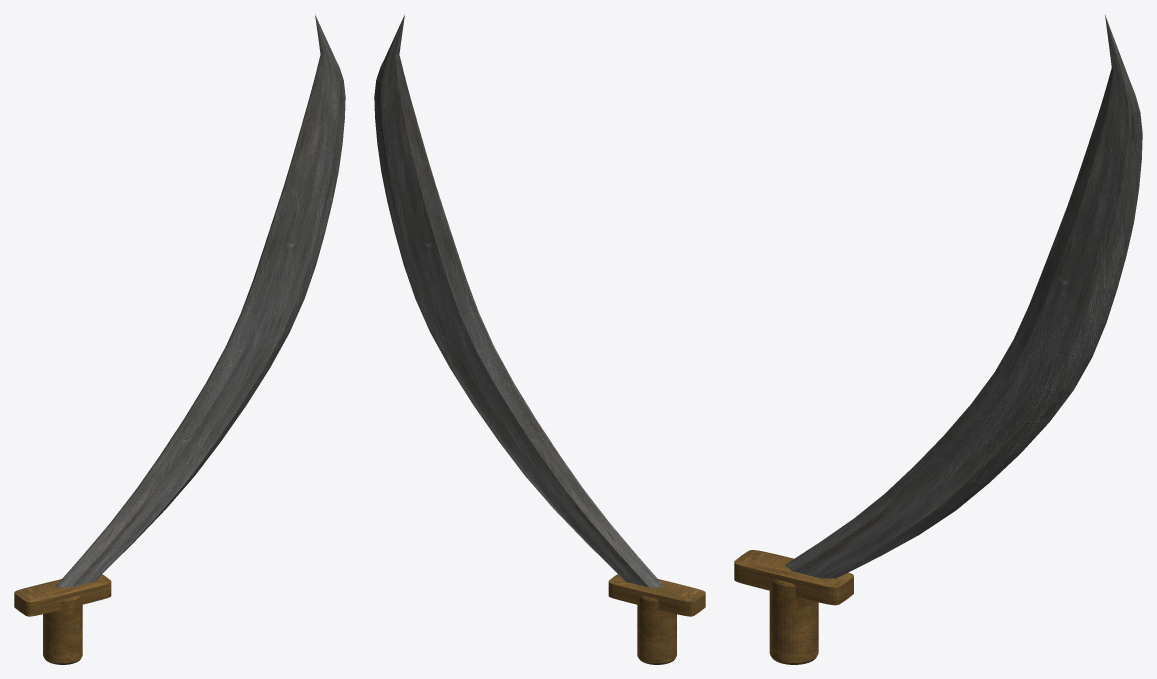
Rendered from curved_blade.obj.
3 renders of one model, left to right at view 1: azimuth 30°, elevation 25°; view 2: azimuth 150°, elevation 25°; view 3: azimuth 330°, elevation 25°, orthographic. The views are drawn at different scales.
Visible parts, largest first — view 1: blade, socket, guard; view 2: blade, socket, guard; view 3: blade, socket, guard.
Boxes of the visible parts, x1,y1,x2,y2 form: blade: (55,14,345,587); socket: (43,595,82,664); guard: (14,574,111,616); blade: (374,14,664,587); socket: (637,595,676,664); guard: (608,574,705,616); blade: (785,15,1142,578); socket: (769,579,818,664); guard: (734,550,853,605).
Size of the model in its own units: 65.58 by 112 by 6.93.
Materials: 3 (3 with a texture image).
